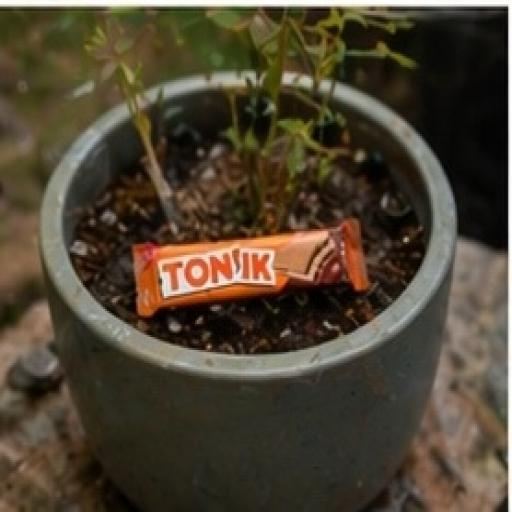tonik: (71, 160, 379, 321)
